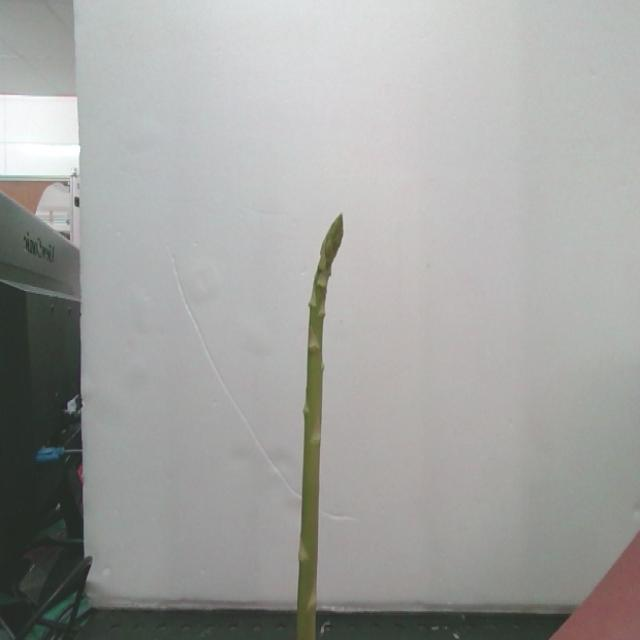aspargus: (293, 216, 343, 640)
